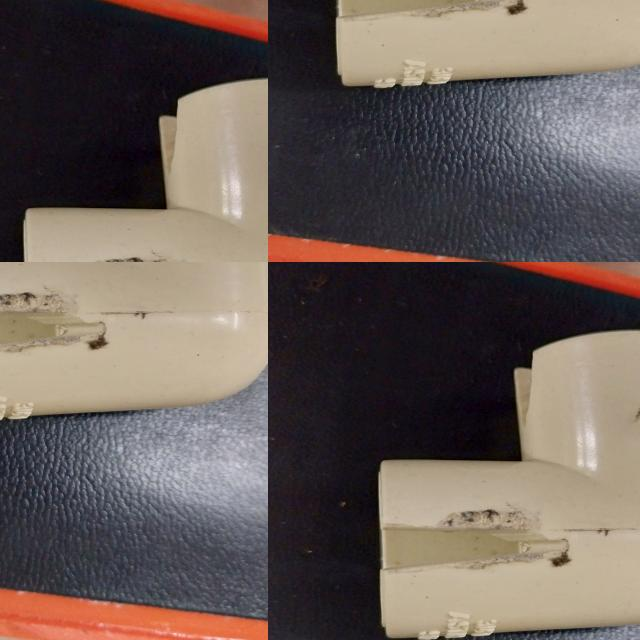Defective: (382, 529, 571, 573), (512, 359, 538, 464)
L Joint: (377, 331, 640, 640)
